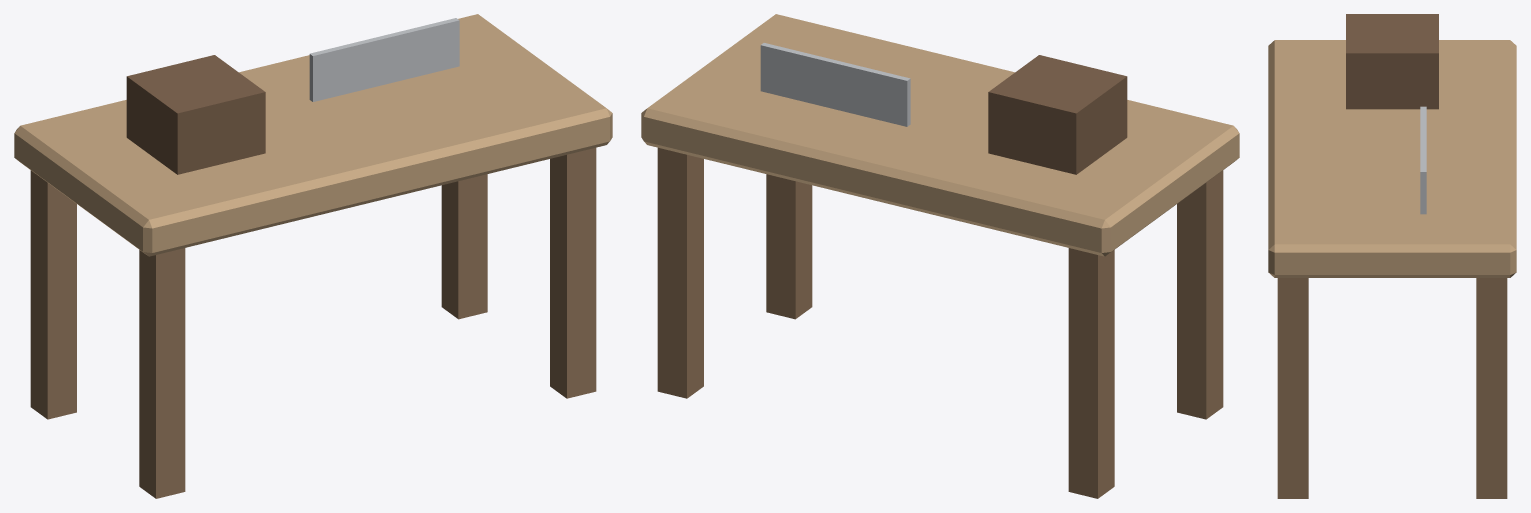
The model's file is workbench.glb.
The picture shows the model from 3 angles, left to right: view 1: azimuth 30°, elevation 25°; view 2: azimuth 150°, elevation 25°; view 3: azimuth 270°, elevation 25°; orthographic projection. The views are drawn at different scales.
Parts seen in each view (by area): view 1: workbench; view 2: workbench; view 3: workbench.
Boxes of the visible parts, left/top/right/bottom form: workbench: left=14, top=14, right=612, bottom=498; workbench: left=641, top=14, right=1239, bottom=498; workbench: left=1268, top=14, right=1516, bottom=498.
Bounding box in the file's own units: 1.6 × 1.12 × 0.8.
